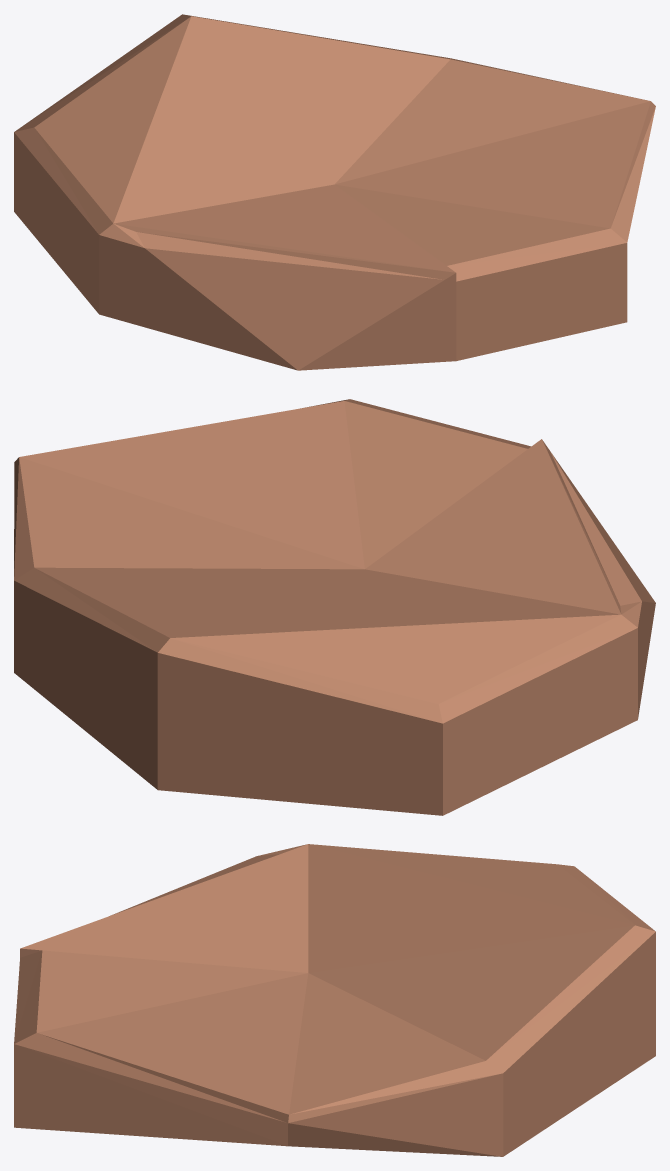
The model's file is 13 Stone_2.FBX.
The picture shows the model from 3 angles, top to bottom: view 1: azimuth 30°, elevation 25°; view 2: azimuth 150°, elevation 25°; view 3: azimuth 270°, elevation 25°; orthographic projection. The views are drawn at different scales.
Visible parts, largest first — view 1: Box253; view 2: Box253; view 3: Box253.
Boxes of the visible parts, x1,y1,x2,y2 form: Box253: (14,14,655,370); Box253: (14,399,655,815); Box253: (14,844,655,1156).
Size of the model in its own units: 130 by 28.06 by 125.
